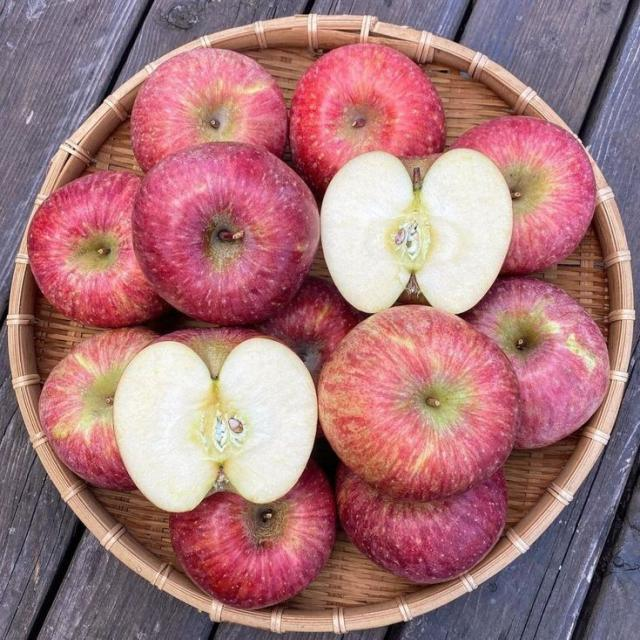apple: (318, 306, 519, 500), (115, 328, 316, 511), (133, 143, 319, 325), (321, 150, 512, 313), (170, 461, 336, 609), (465, 278, 609, 448), (290, 44, 444, 194), (453, 117, 595, 273), (27, 172, 167, 327), (337, 466, 507, 584), (131, 49, 287, 171), (40, 327, 156, 490), (258, 277, 363, 382), (155, 327, 261, 379)
